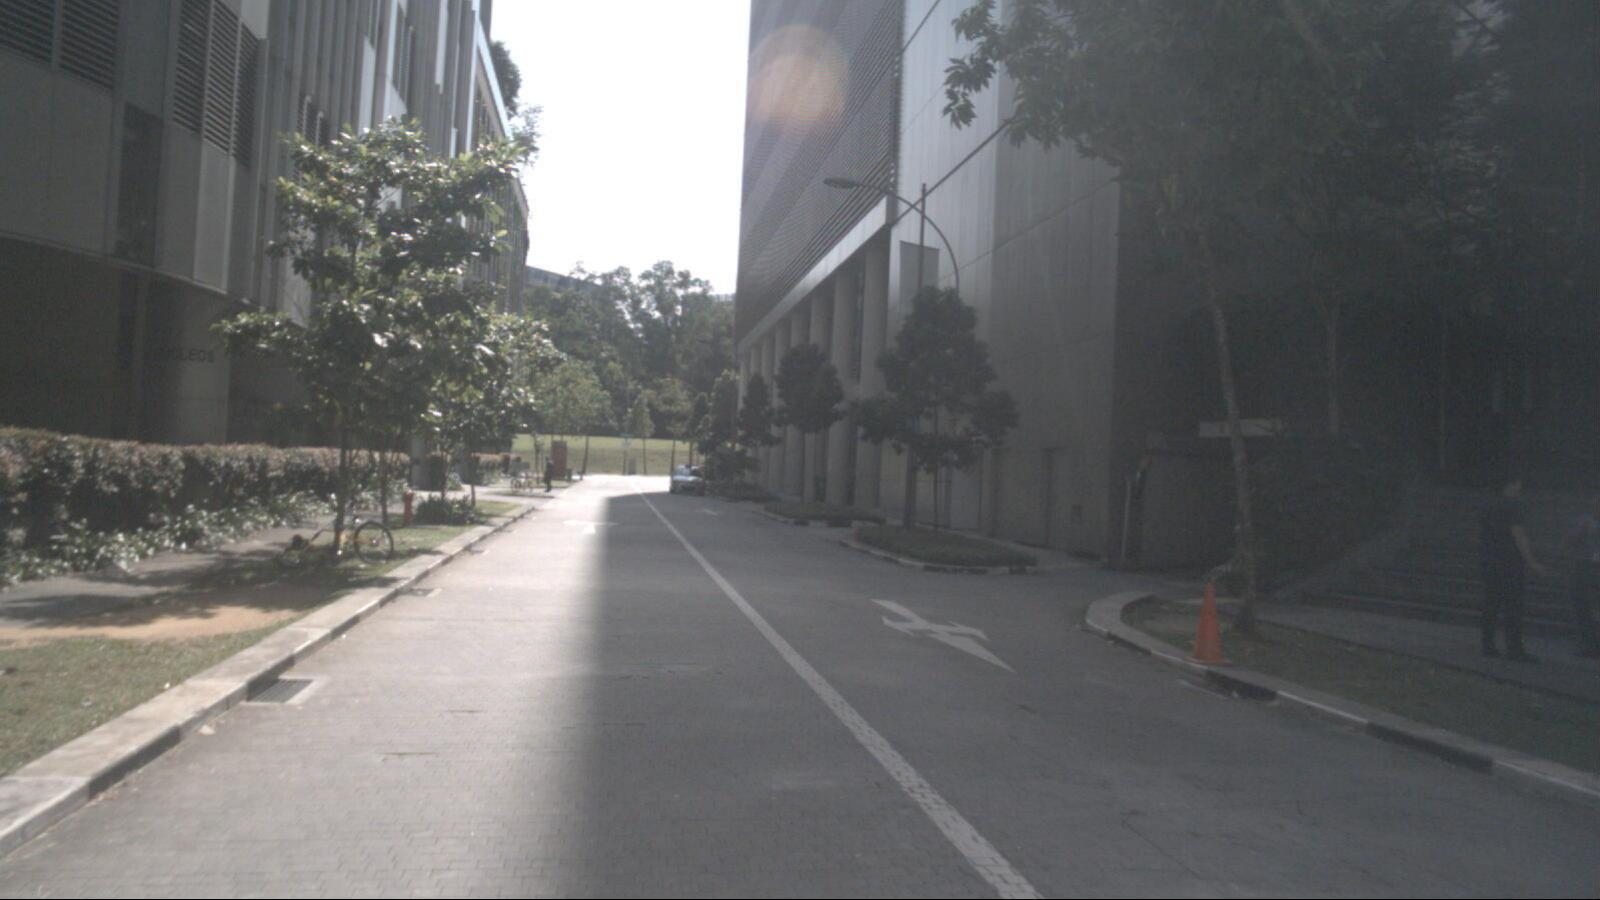human.pedestrian.adult-pedestrian.moving: (541, 452, 556, 493)
human.pedestrian.adult-pedestrian.standing: (1478, 470, 1547, 667), (1557, 506, 1600, 657)
